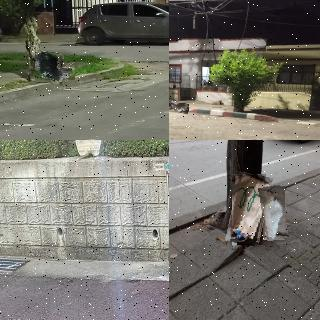Garbage: (229, 173, 269, 246), (261, 186, 287, 240), (34, 51, 63, 83), (56, 66, 75, 81), (169, 101, 189, 113), (169, 99, 176, 110)
